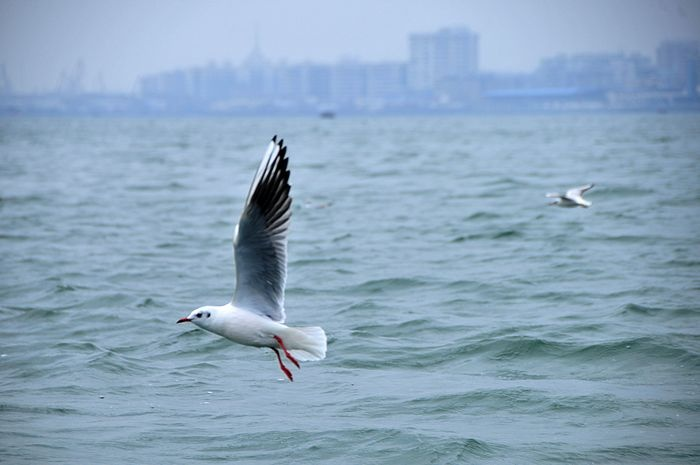bird: (174, 134, 328, 384), (539, 180, 600, 212)
